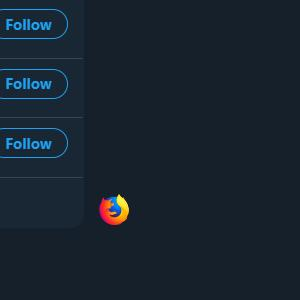firefox: (98, 194, 129, 226)
